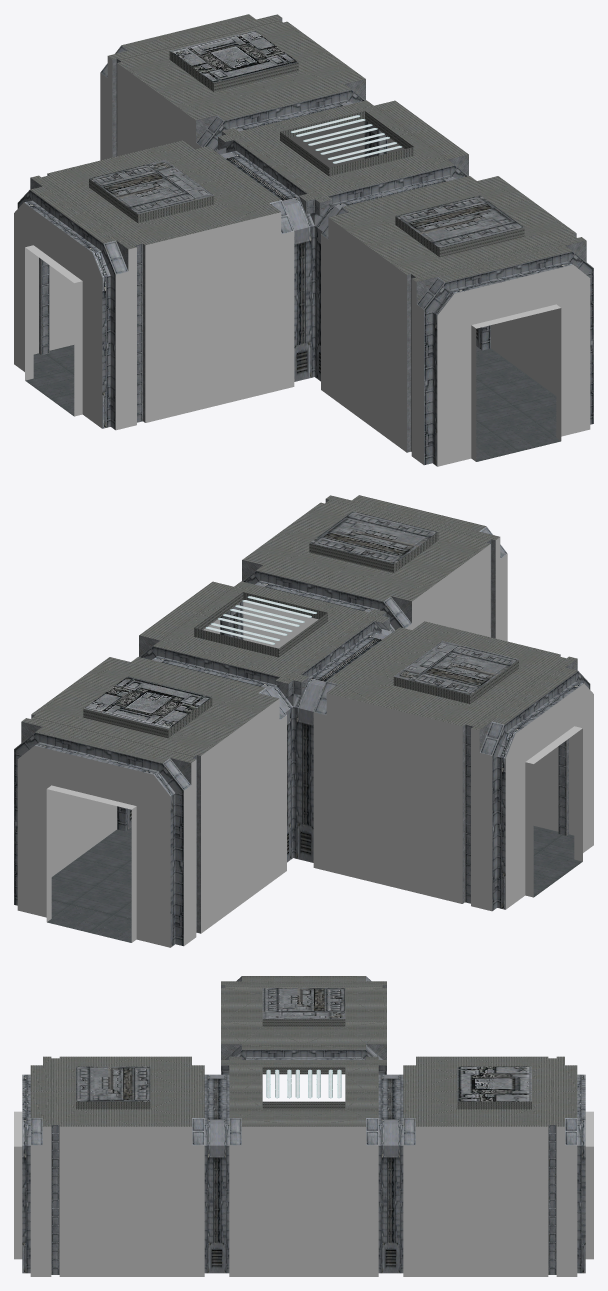
The model's file is poi_all_impl_bunker_warren_s01_r85_hall85_mesh_r85.fbx.
The picture shows the model from 3 angles, top to bottom: view 1: azimuth 30°, elevation 25°; view 2: azimuth 150°, elevation 25°; view 3: azimuth 270°, elevation 25°; orthographic projection. The views are drawn at different scales.
Visible parts, largest first — view 1: mesh_node; view 2: mesh_node; view 3: mesh_node.
Part boxes in pixels (box(x1,y1,x2,y2)): mesh_node: box(14, 14, 593, 466); mesh_node: box(14, 495, 593, 947); mesh_node: box(14, 976, 593, 1276).
Size of the model in its own units: 9 by 4.2 by 14.
